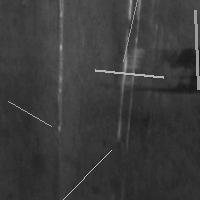scratches: (114, 1, 144, 147), (115, 47, 199, 94), (53, 145, 116, 200), (53, 1, 69, 132), (3, 96, 56, 131), (118, 0, 143, 66), (90, 65, 168, 82), (190, 5, 200, 94)
